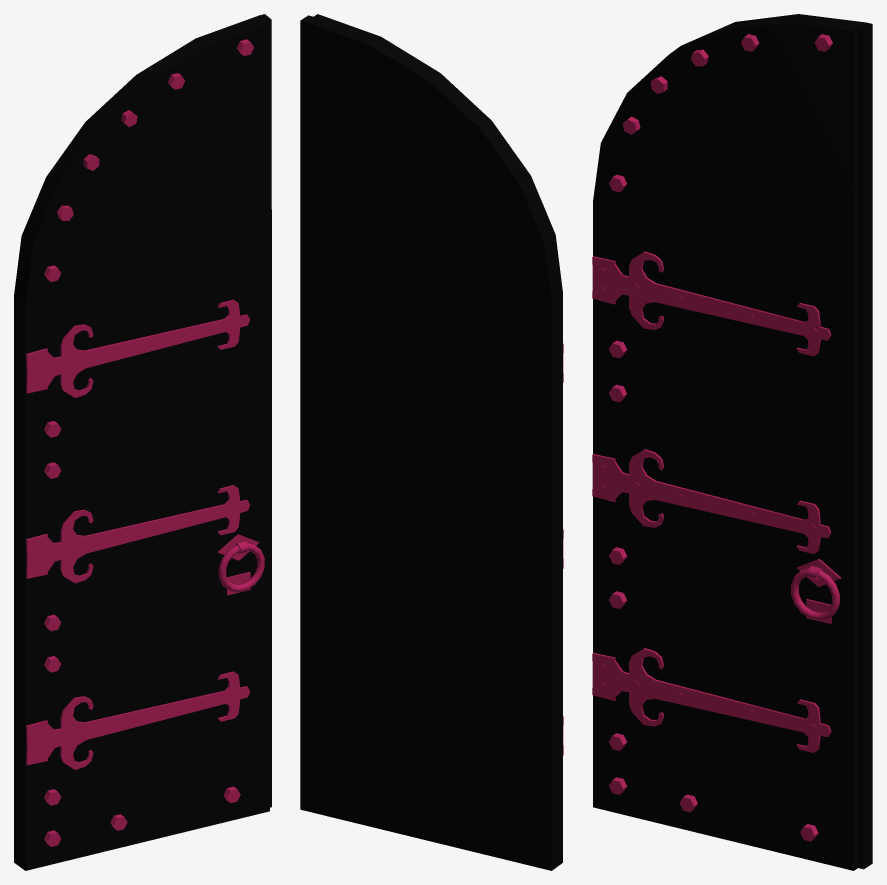
File: DoorG3_Low.fbx
3 views of the same model, side by side, from view 1: azimuth 30°, elevation 25°; view 2: azimuth 150°, elevation 25°; view 3: azimuth 330°, elevation 25° (orthographic). The views are drawn at different scales.
Visible parts, largest first — view 1: DoorG_Low; view 2: DoorG_Low; view 3: DoorG_Low.
Part boxes in pixels (box(x1,y1,x2,y2)): DoorG_Low: box(14, 14, 271, 870); DoorG_Low: box(300, 14, 563, 870); DoorG_Low: box(592, 14, 872, 870).
Bounding box in the file's own units: 76.69 × 230 × 9.56.
